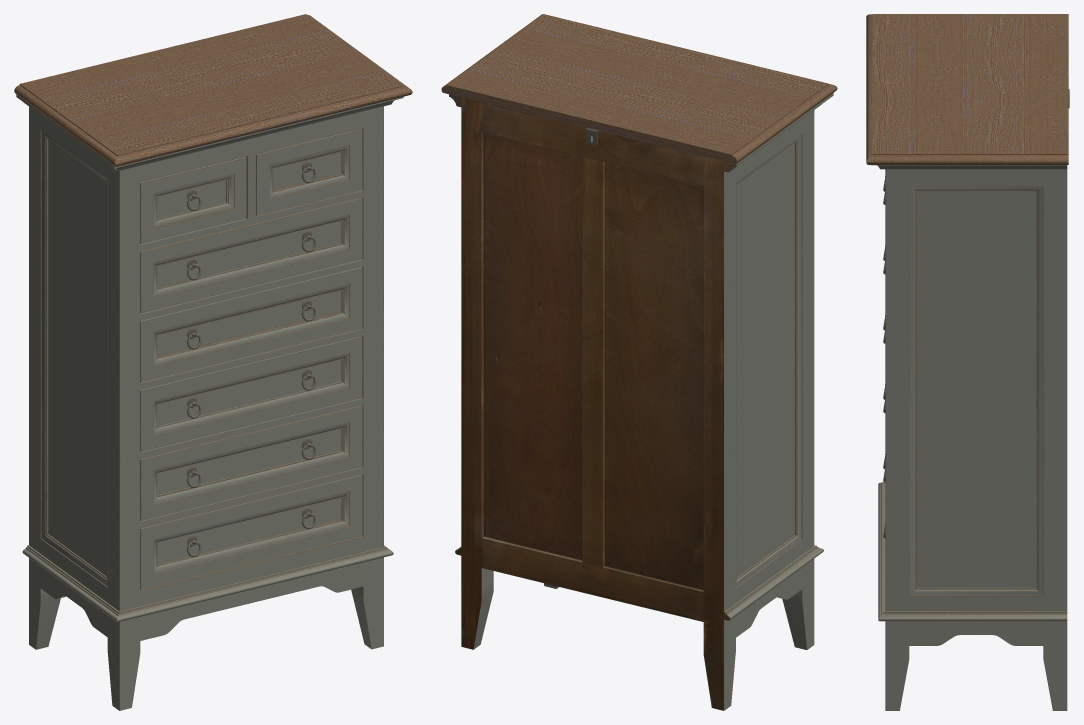
File: example79.gltf
3 renders of one model, left to right at view 1: azimuth 30°, elevation 25°; view 2: azimuth 150°, elevation 25°; view 3: azimuth 270°, elevation 25°, orthographic.
Bounding box in the file's own units: 71.99 × 130 × 42.5.
4 materials, 4 textured.
